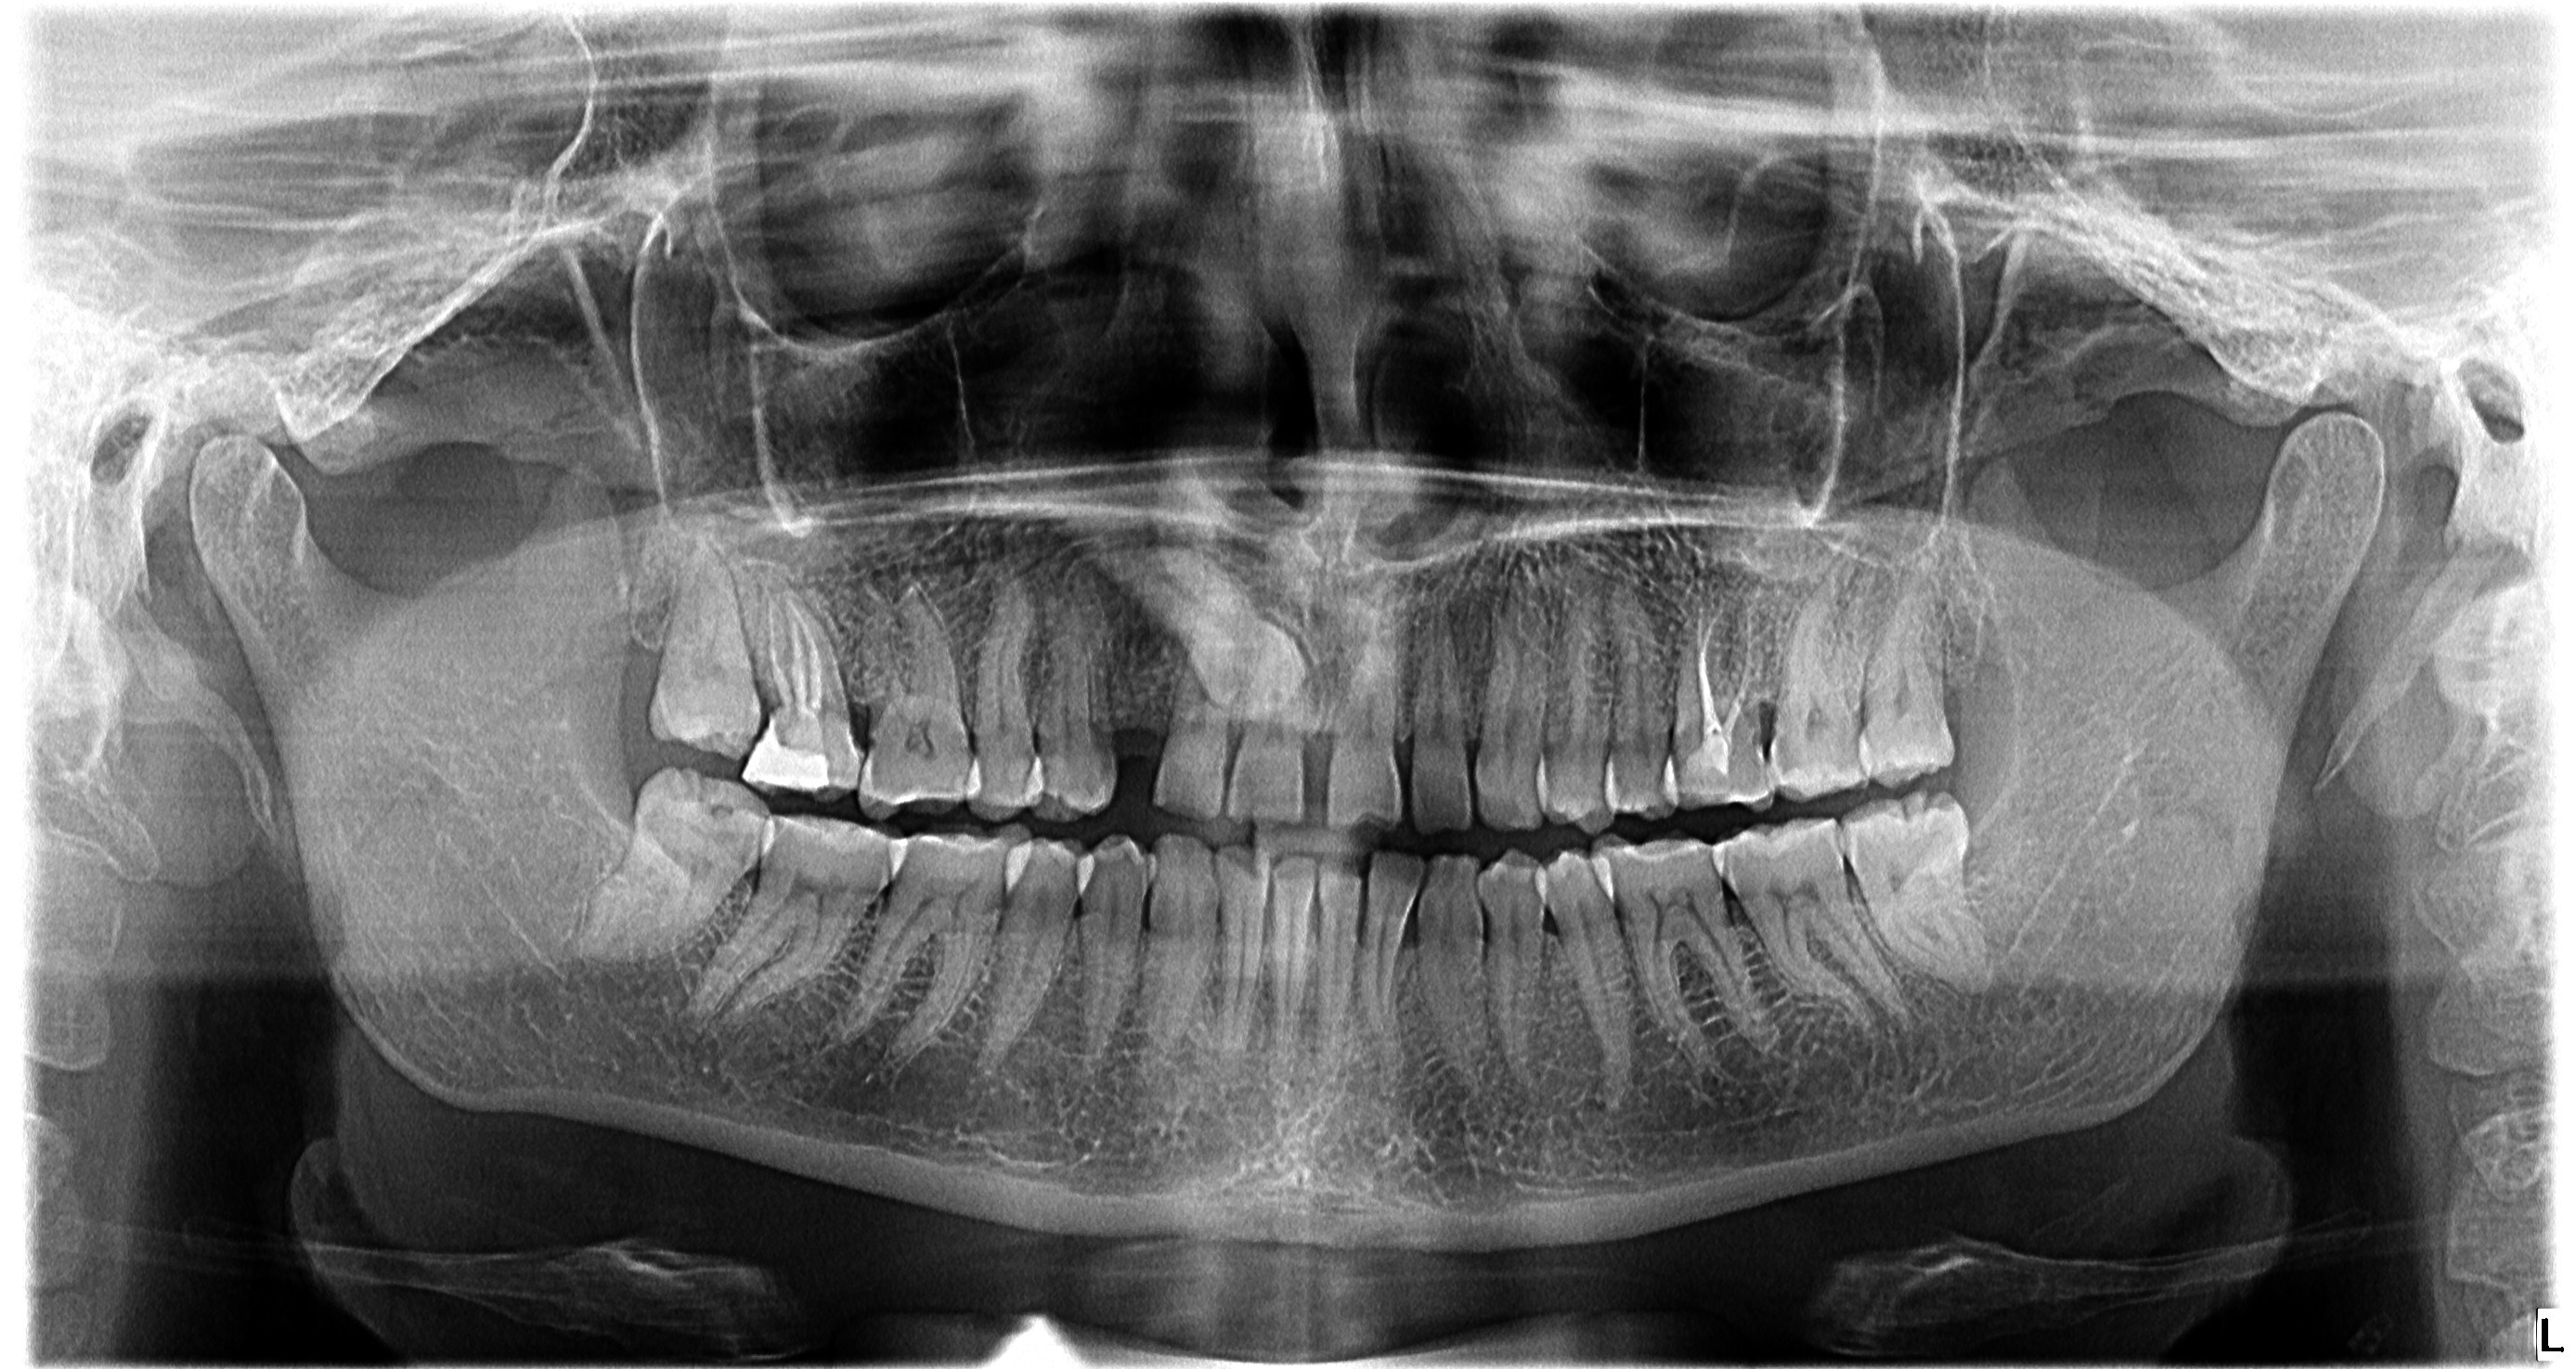CAR: (1753, 722, 1820, 787)
END: (751, 562, 848, 727), (1676, 574, 1763, 736)
IMT: (1044, 473, 1346, 748)
OBT: (727, 708, 871, 812), (1654, 724, 1741, 816)
